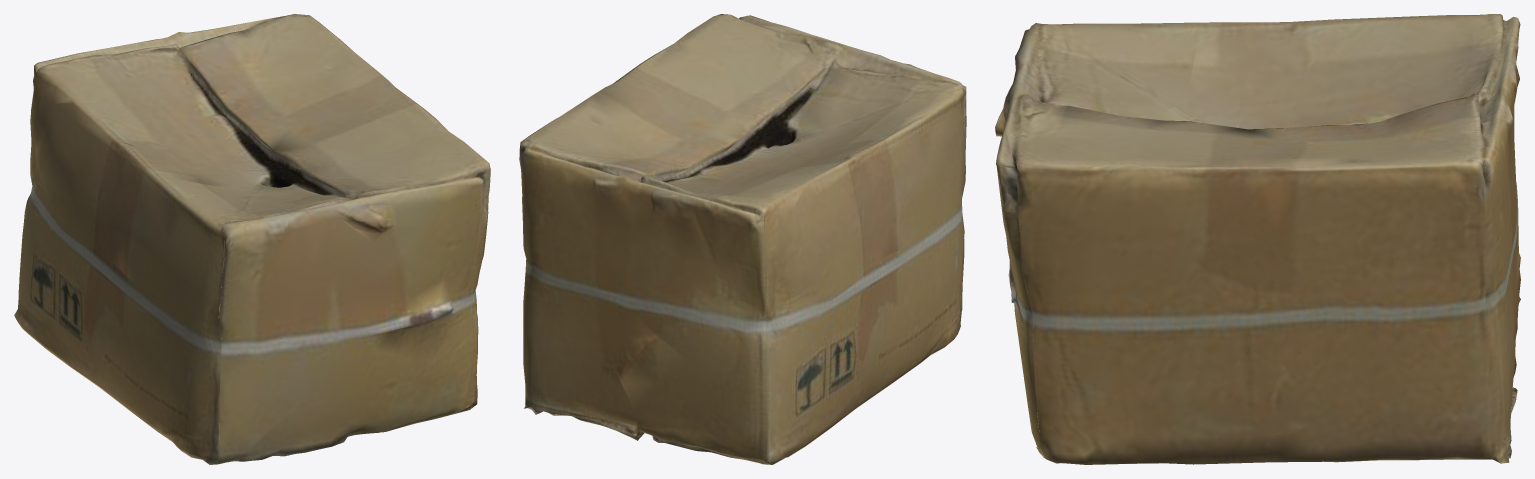
The model's file is cardboard_box_01.glb.
3 renders of one model, left to right at view 1: azimuth 30°, elevation 25°; view 2: azimuth 150°, elevation 25°; view 3: azimuth 270°, elevation 25°, orthographic. The views are drawn at different scales.
Parts seen in each view (by area): view 1: cardboard_box_01; view 2: cardboard_box_01; view 3: cardboard_box_01.
Part boxes in pixels (box(x1,y1,x2,y2)): cardboard_box_01: box(14, 14, 490, 464); cardboard_box_01: box(519, 14, 966, 464); cardboard_box_01: box(995, 14, 1520, 464).
Size of the model in its own units: 0.3871 by 0.3415 by 0.5159.
1 material, 1 textured.
